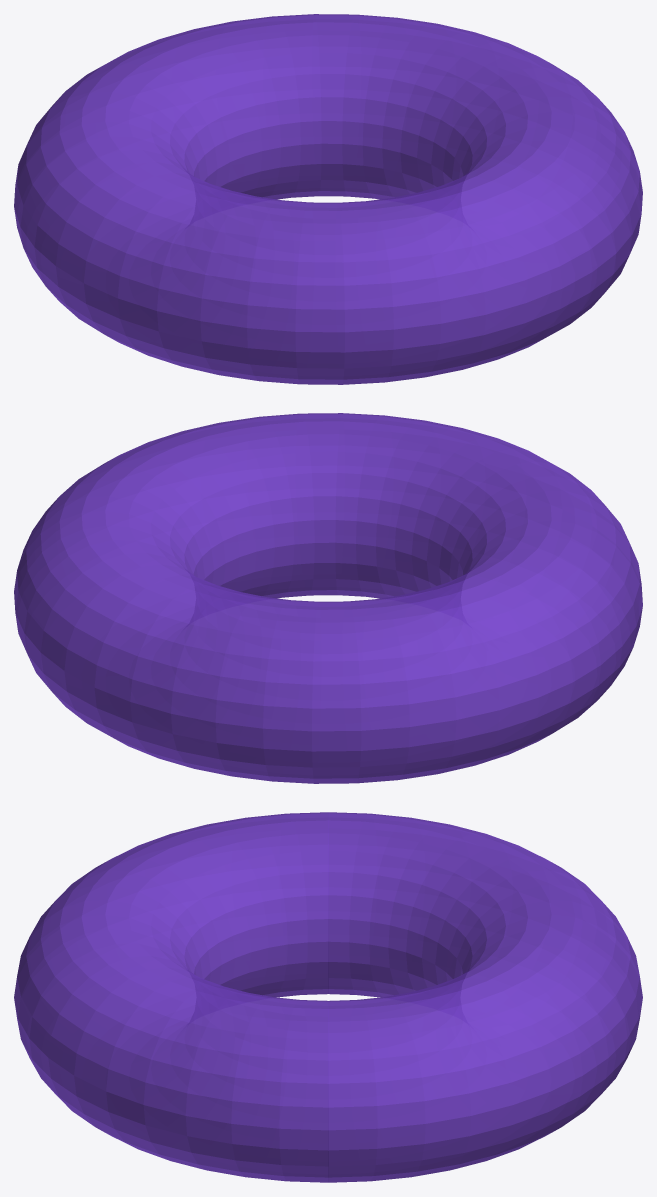
Rendered from mind_agent.obj.
3 views of the same model, one above another, from view 1: azimuth 30°, elevation 25°; view 2: azimuth 150°, elevation 25°; view 3: azimuth 270°, elevation 25° (orthographic).
Visible parts, largest first — view 1: mind_agent; view 2: mind_agent; view 3: mind_agent.
Boxes of the visible parts, left/top/right/bottom form: mind_agent: left=14, top=14, right=642, bottom=384; mind_agent: left=14, top=413, right=642, bottom=783; mind_agent: left=14, top=812, right=642, bottom=1182.
Bounding box in the file's own units: 3.1 × 0.9 × 3.1.
